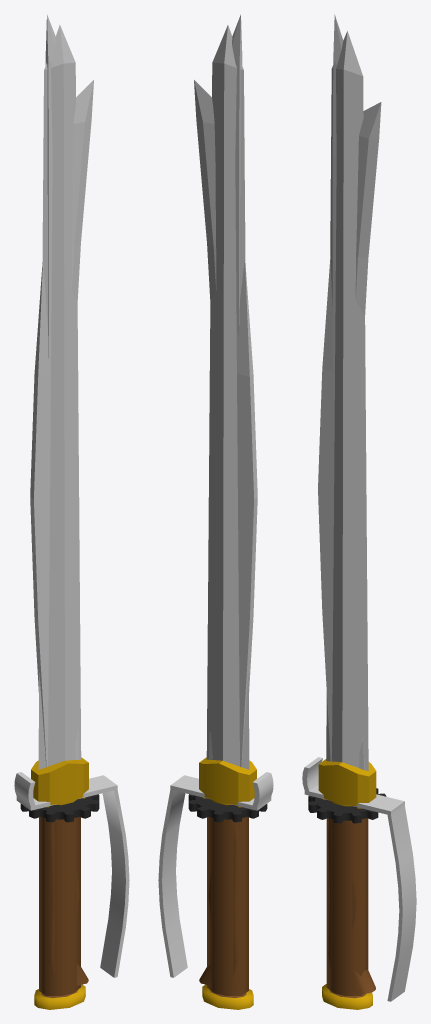
File: Swords.fbx
The picture shows the model from 3 angles, left to right: view 1: azimuth 30°, elevation 25°; view 2: azimuth 150°, elevation 25°; view 3: azimuth 330°, elevation 25°; orthographic projection.
Parts seen in each view (by area): view 1: Jian, Ginunting, Katana; view 2: Jian, Ginunting, Katana; view 3: Jian, Ginunting, Katana.
Boxes of the visible parts, <box> form: Jian: <box>31,25,88,1009</box>; Ginunting: <box>14,80,129,985</box>; Katana: <box>20,14,99,995</box>; Jian: <box>199,25,256,1009</box>; Ginunting: <box>158,80,273,985</box>; Katana: <box>188,14,267,995</box>; Jian: <box>318,31,376,1009</box>; Ginunting: <box>302,102,416,1001</box>; Katana: <box>308,14,386,995</box>.
Bounding box in the file's own units: 23.15 × 217 × 15.64.
